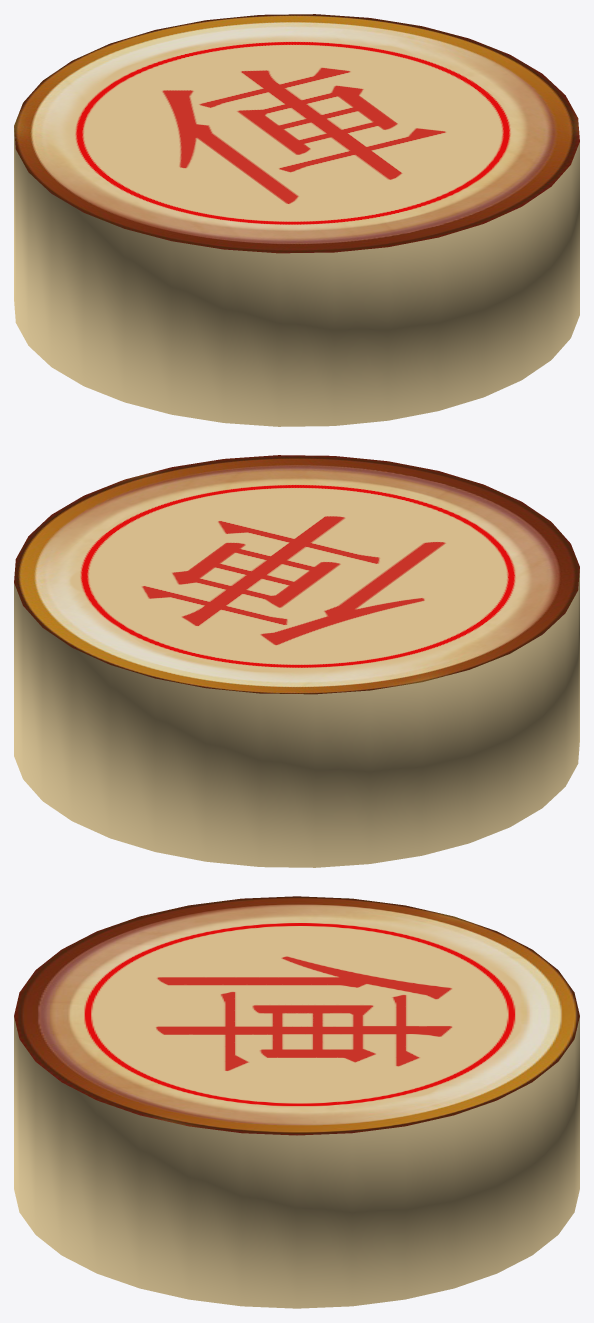
The picture shows the model from 3 angles, top to bottom: view 1: azimuth 30°, elevation 25°; view 2: azimuth 150°, elevation 25°; view 3: azimuth 270°, elevation 25°; orthographic projection.
Parts seen in each view (by area): view 1: Cylinder.004; view 2: Cylinder.004; view 3: Cylinder.004.
Boxes of the visible parts, bbox=[...] form: Cylinder.004: bbox=[14, 14, 579, 426]; Cylinder.004: bbox=[14, 455, 579, 867]; Cylinder.004: bbox=[14, 896, 579, 1308].
Size of the model in its own units: 200 by 67.52 by 200.
